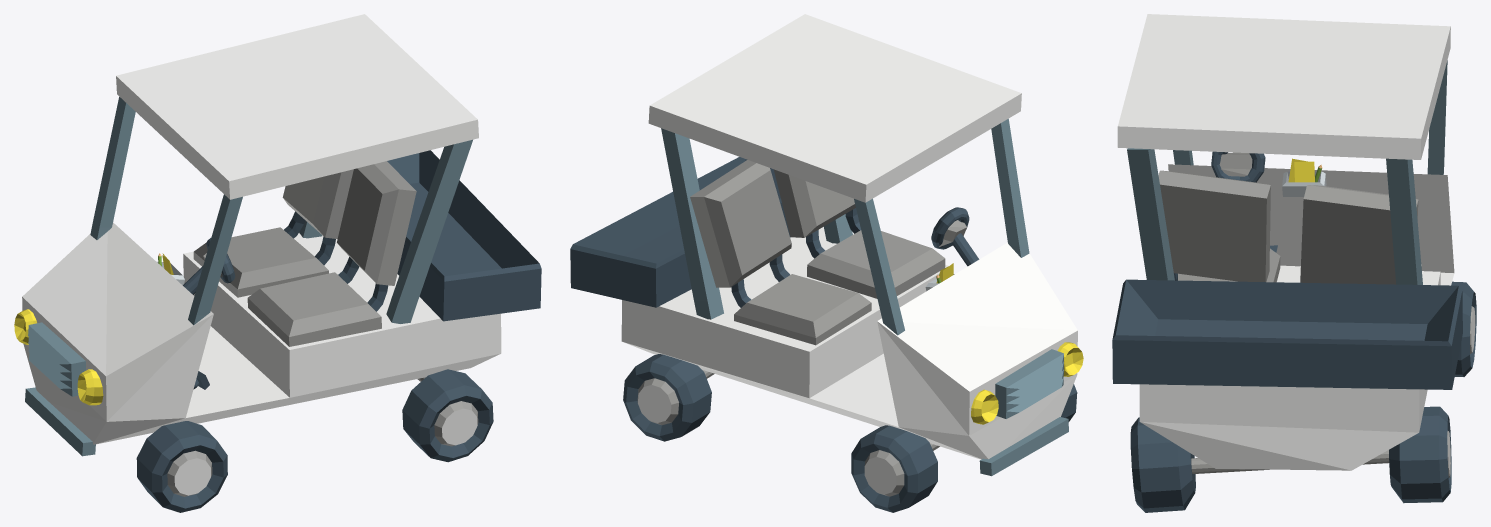
Rendered from toto.glb.
The picture shows the model from 3 angles, left to right: view 1: azimuth 30°, elevation 25°; view 2: azimuth 150°, elevation 25°; view 3: azimuth 270°, elevation 25°; orthographic projection. The views are drawn at different scales.
Visible parts, largest first — view 1: Node; view 2: Node; view 3: Node.
Boxes of the visible parts, bbox=[...] form: Node: bbox=[14, 14, 541, 512]; Node: bbox=[570, 14, 1083, 512]; Node: bbox=[1112, 14, 1476, 512].
Size of the model in its own units: 2.46 by 1.9 by 1.61.
Materials: 1 (1 with a texture image).
